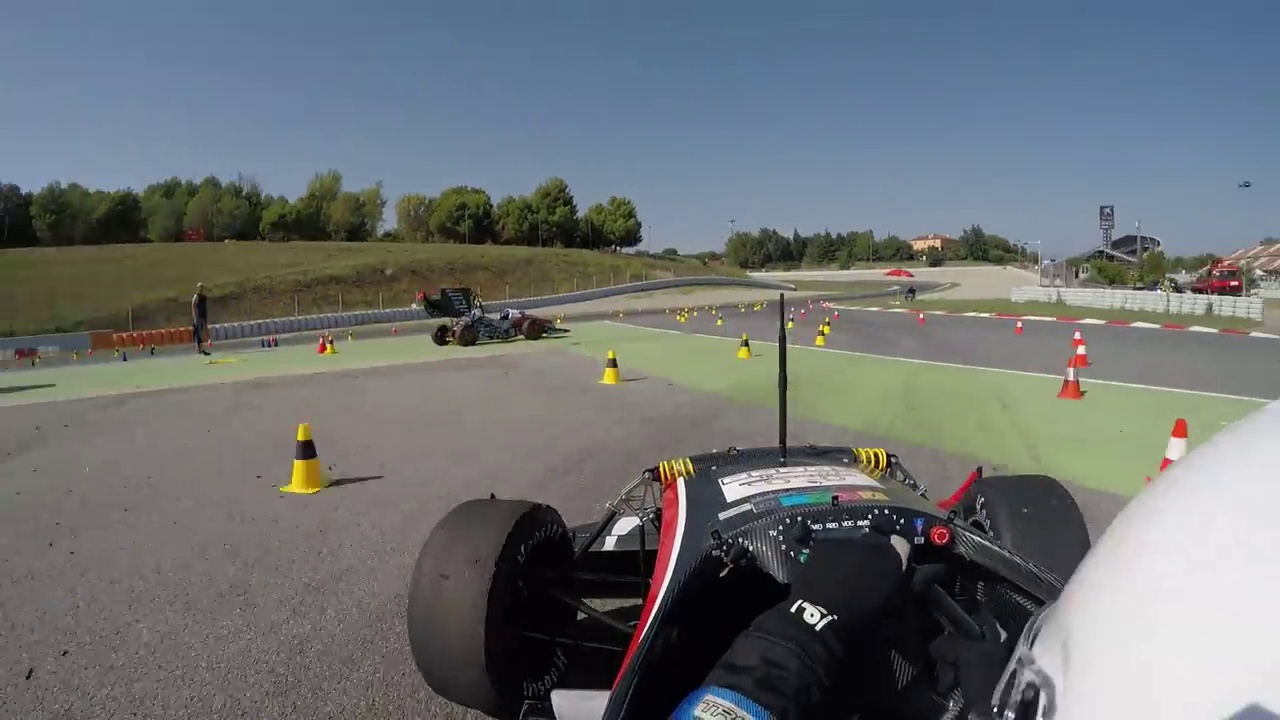Cone: (284, 420, 329, 497), (1058, 352, 1088, 399), (598, 348, 622, 386), (734, 332, 755, 363)
